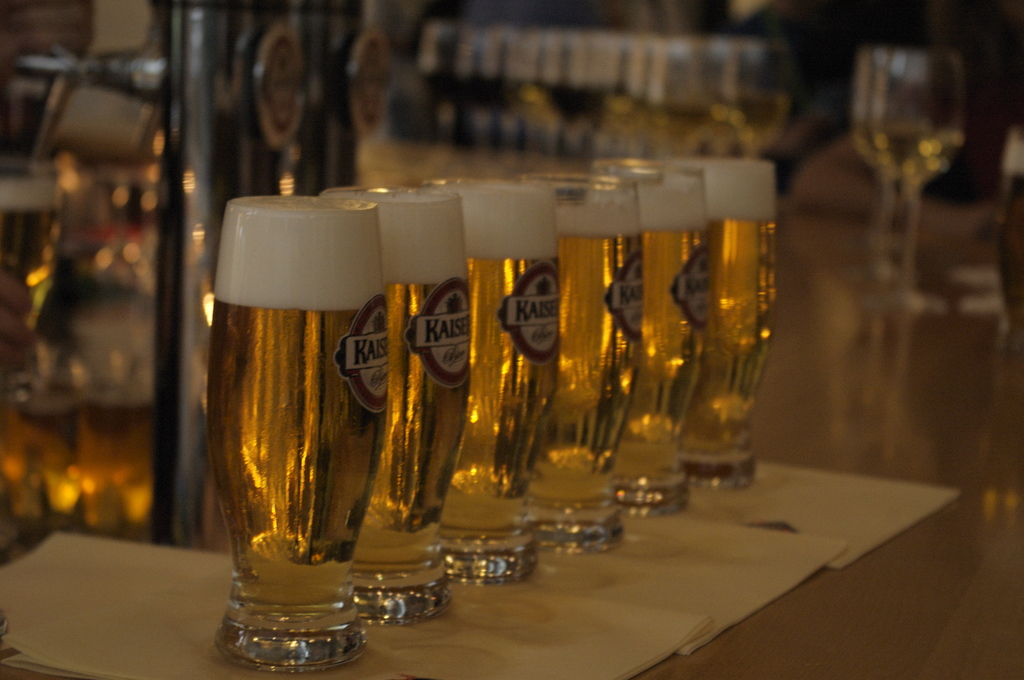Beer: (211, 194, 376, 679), (314, 176, 466, 619), (531, 157, 643, 573), (444, 167, 551, 597), (592, 148, 701, 512), (677, 153, 768, 500)
